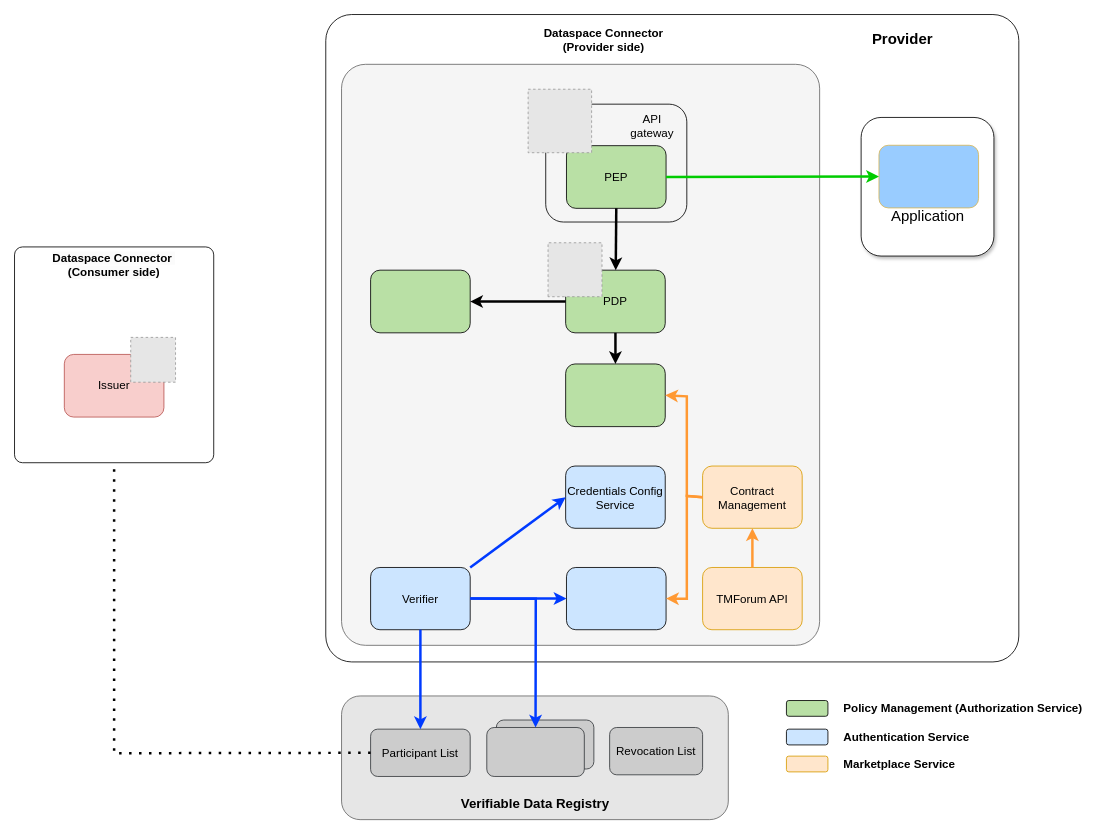
The diagram is 1111 pixels wide and 834 high, and some of its shapes have lost their labels. Grey dashed boxes stand in for pictures. Each missing label, with the centre of its shape:
"Data Service" goes at [928,176].
"Global Trusted Issuers List" goes at [535,751].
"Local Trusted Issuers List" goes at [616,598].
"PIP" goes at [420,301].
"PRP/PAP (authorization)" goes at [615,395].
